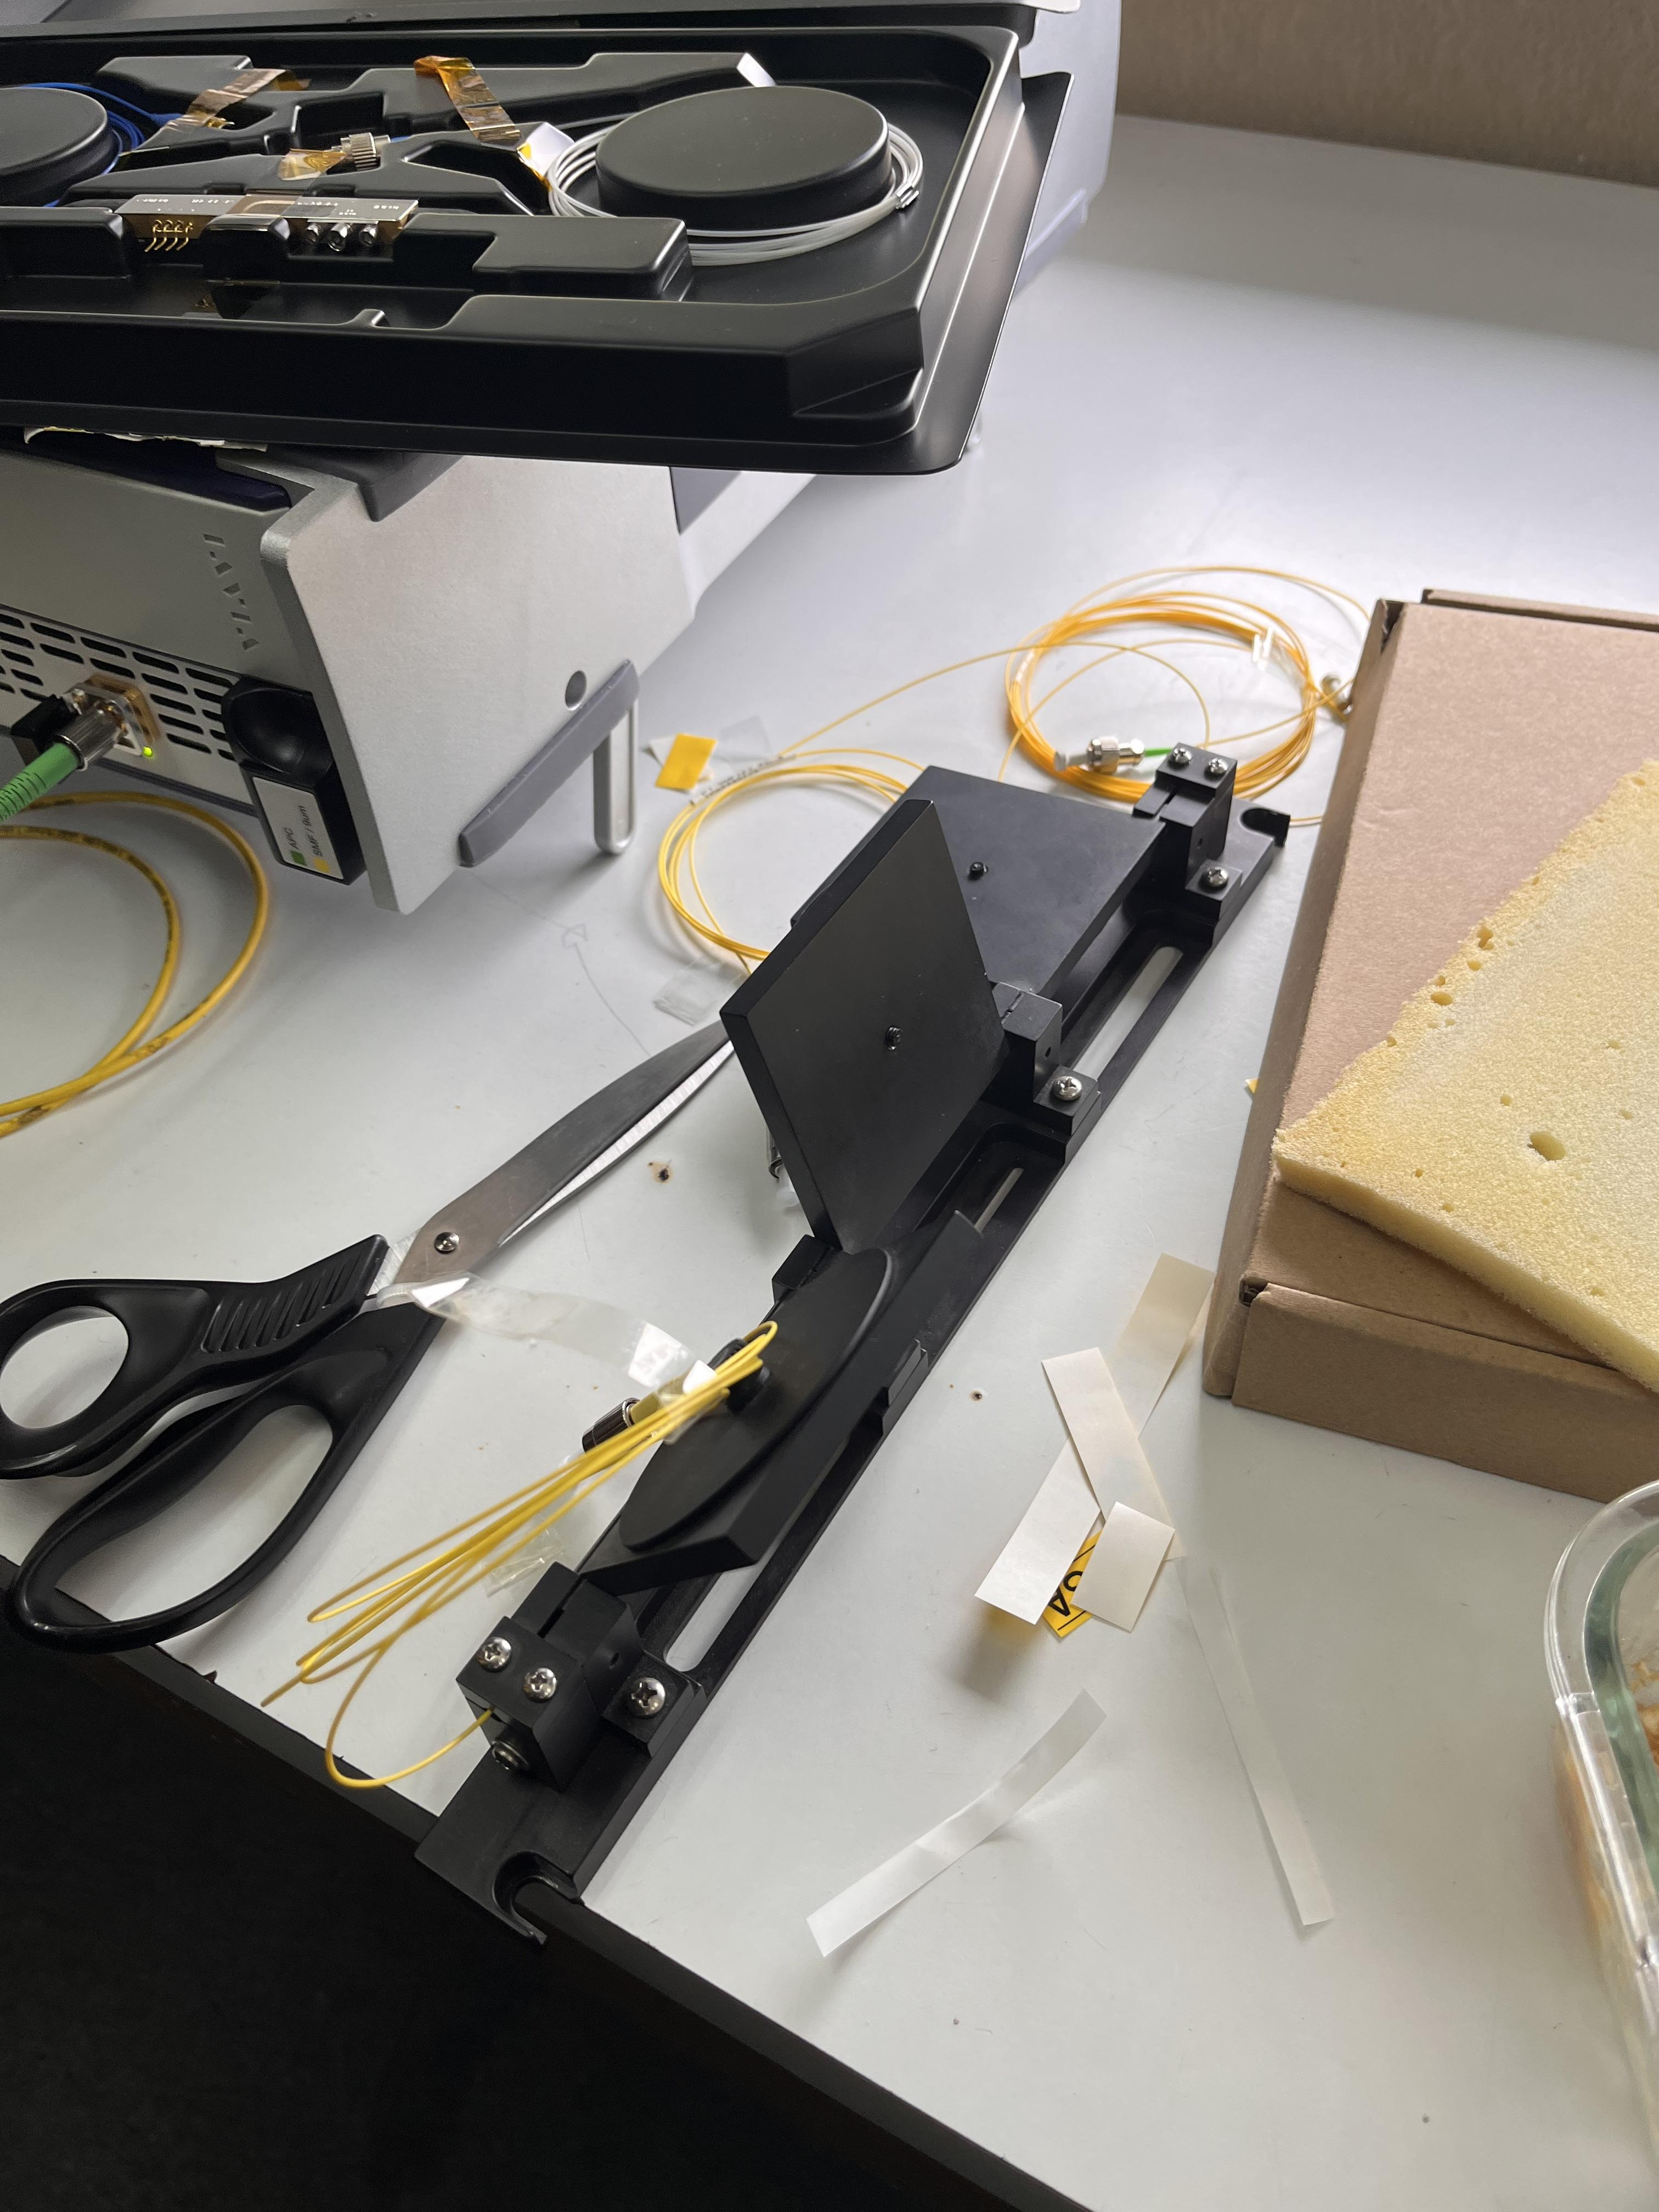paddle_polarization_controller: (403, 730, 1310, 1947)
